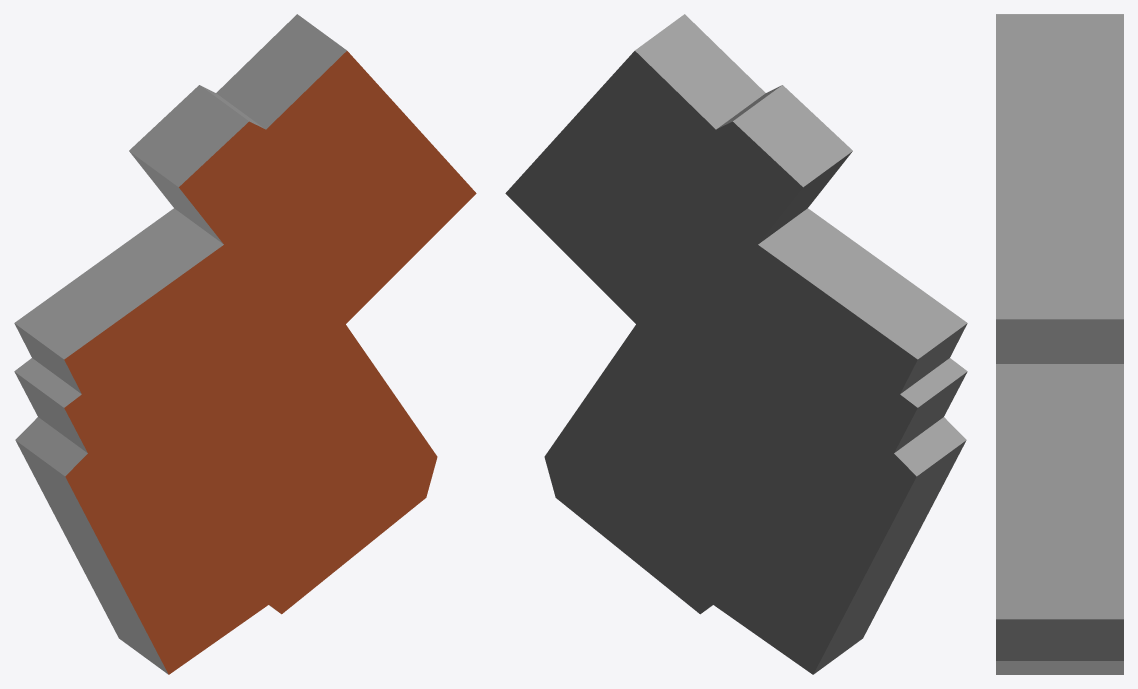
The model's file is construction_5936_assumed_A_Casa_h6m.obj.
3 views of the same model, side by side, from view 1: azimuth 30°, elevation 25°; view 2: azimuth 150°, elevation 25°; view 3: azimuth 270°, elevation 25° (orthographic). The views are drawn at different scales.
Parts seen in each view (by area): view 1: construction_5936_assumed_A_Casa; view 2: construction_5936_assumed_A_Casa; view 3: construction_5936_assumed_A_Casa.
Boxes of the visible parts, x1,y1,x2,y2 form: construction_5936_assumed_A_Casa: (14, 14, 476, 674); construction_5936_assumed_A_Casa: (505, 14, 967, 674); construction_5936_assumed_A_Casa: (996, 14, 1123, 674).
Size of the model in its own units: 28.62 by 38.51 by 6.
